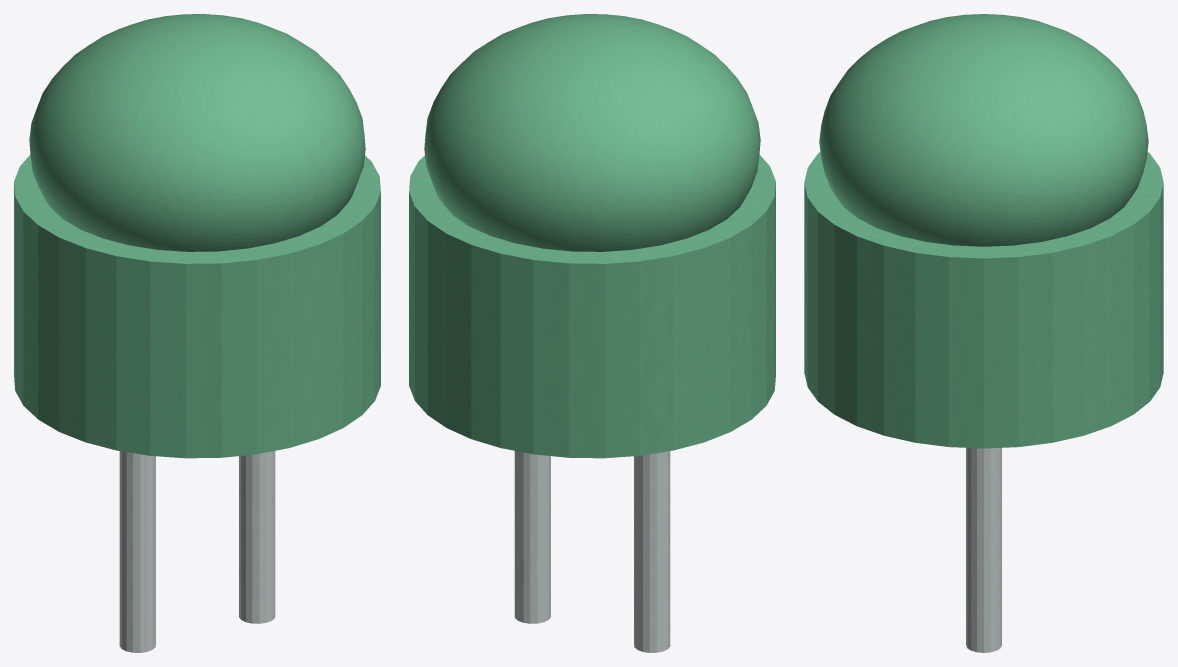
Rendered from led.glb.
The picture shows the model from 3 angles, left to right: view 1: azimuth 30°, elevation 25°; view 2: azimuth 150°, elevation 25°; view 3: azimuth 270°, elevation 25°; orthographic projection. The views are drawn at different scales.
Visible parts, largest first — view 1: LED_Stem, LED_Dome, LED_Lead_A, LED_Lead_K; view 2: LED_Stem, LED_Dome, LED_Lead_A, LED_Lead_K; view 3: LED_Stem, LED_Dome, LED_Lead_K.
Boxes of the visible parts, x1=… form: LED_Stem: x1=14, y1=154, x2=380, y2=458; LED_Dome: x1=29, y1=14, x2=365, y2=251; LED_Lead_A: x1=119, y1=451, x2=155, y2=652; LED_Lead_K: x1=239, y1=451, x2=275, y2=623; LED_Stem: x1=409, y1=154, x2=775, y2=458; LED_Dome: x1=424, y1=14, x2=760, y2=251; LED_Lead_A: x1=634, y1=451, x2=670, y2=652; LED_Lead_K: x1=514, y1=451, x2=550, y2=623; LED_Stem: x1=804, y1=152, x2=1163, y2=448; LED_Dome: x1=819, y1=14, x2=1148, y2=246; LED_Lead_K: x1=966, y1=448, x2=1001, y2=652.
Bounding box in the file's own units: 0.24 × 0.4292 × 0.24.
Materials: 4 (4 with a texture image).
